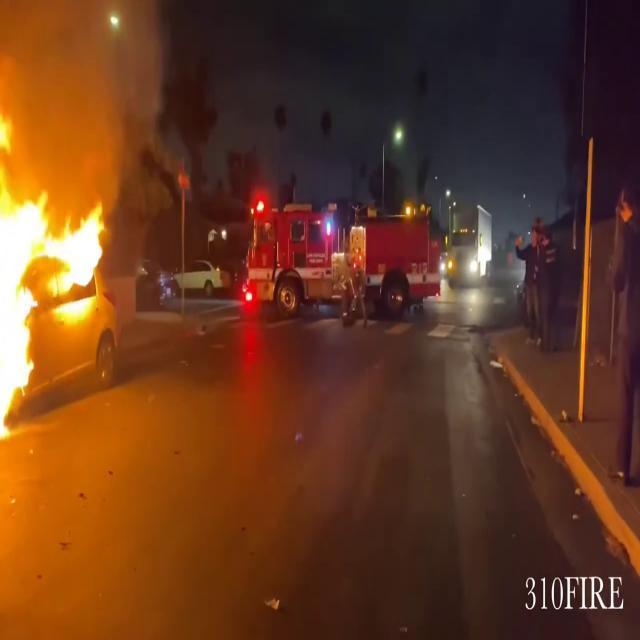Fire: (0, 97, 114, 449)
Smoke: (0, 0, 166, 180)
